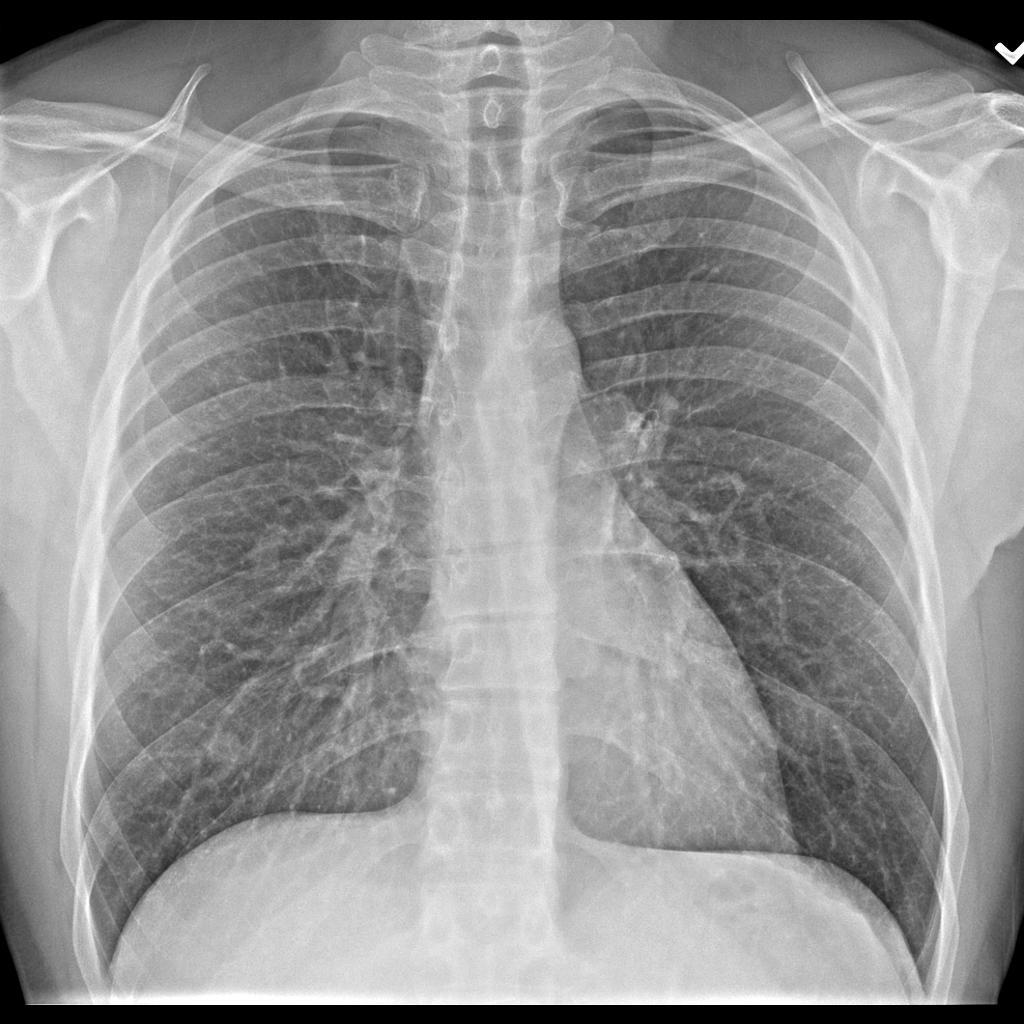Nodule: (203, 724, 254, 775)
